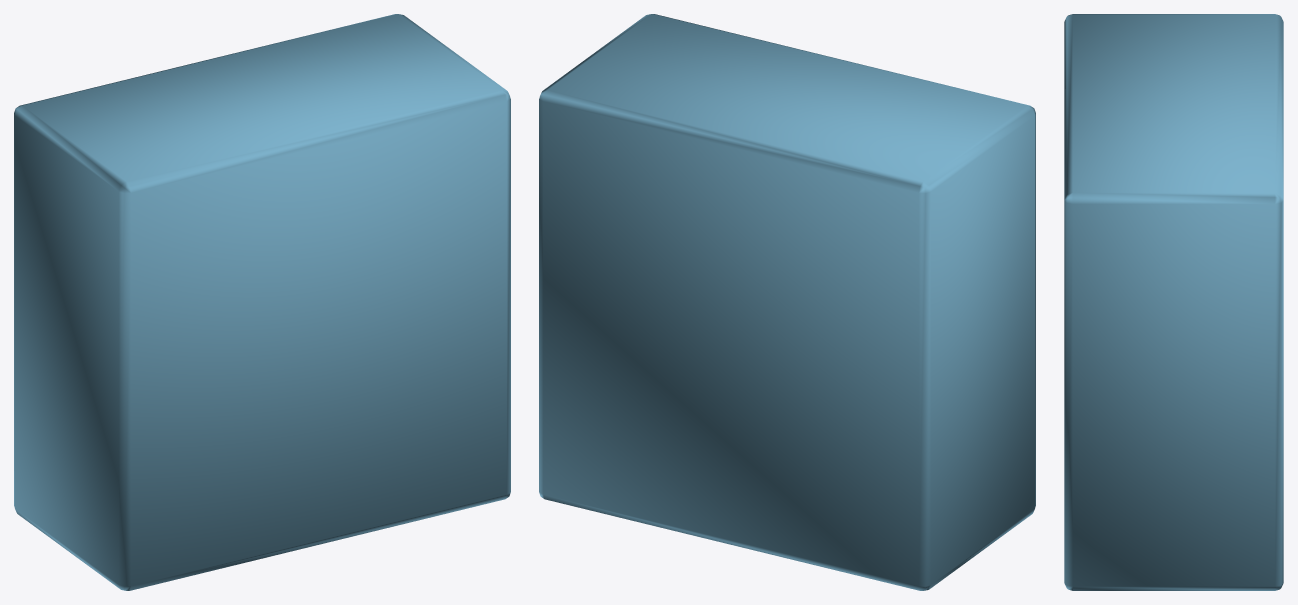
File: B05_LARGE_BLOCK.fbx
3 renders of one model, left to right at view 1: azimuth 30°, elevation 25°; view 2: azimuth 150°, elevation 25°; view 3: azimuth 270°, elevation 25°, orthographic. The views are drawn at different scales.
Parts seen in each view (by area): view 1: B05_LARGE_BLOCK; view 2: B05_LARGE_BLOCK; view 3: B05_LARGE_BLOCK.
Boxes of the visible parts, x1=… form: B05_LARGE_BLOCK: x1=14, y1=14, x2=510, y2=590; B05_LARGE_BLOCK: x1=539, y1=14, x2=1035, y2=590; B05_LARGE_BLOCK: x1=1064, y1=14, x2=1283, y2=590.
Size of the model in its own units: 200 by 200 by 100.
